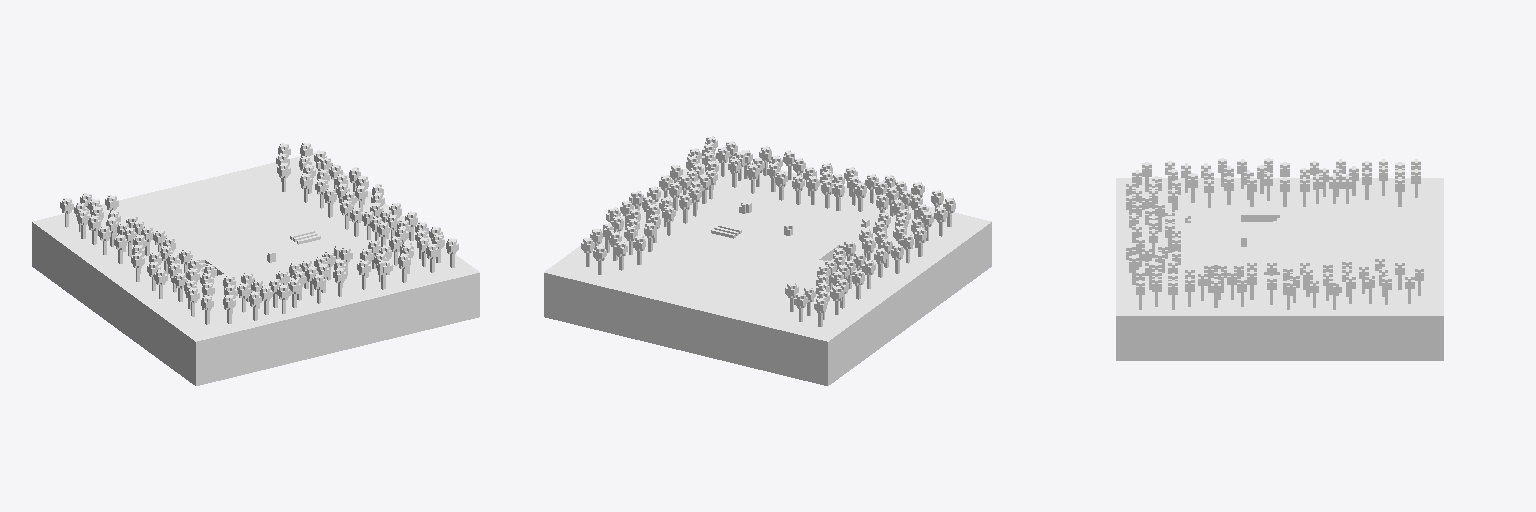
Rendered from map_01.obj.
The picture shows the model from 3 angles: view 1: azimuth 30°, elevation 25°; view 2: azimuth 150°, elevation 25°; view 3: azimuth 270°, elevation 25°; orthographic projection.
Parts seen in each view (by area): view 1: object 1; view 2: object 1; view 3: object 1.
Part boxes in pixels (bbox=[...]): object 1: bbox=[32, 143, 479, 385]; object 1: bbox=[544, 136, 991, 385]; object 1: bbox=[1116, 158, 1443, 360].
Bounding box in the file's own units: 10 × 2.4 × 10.